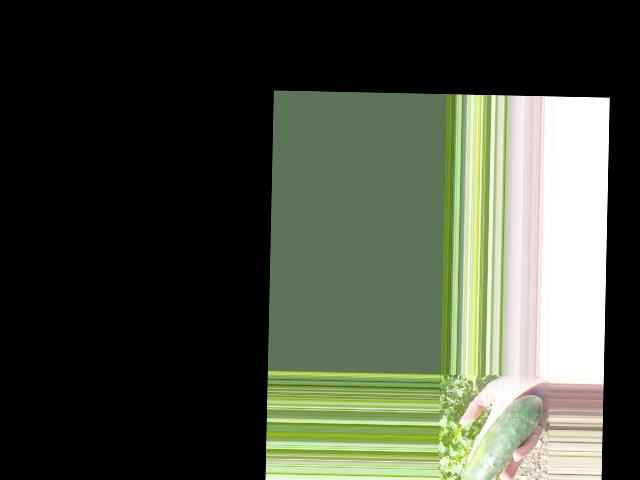cucumber: (460, 394, 543, 480)
